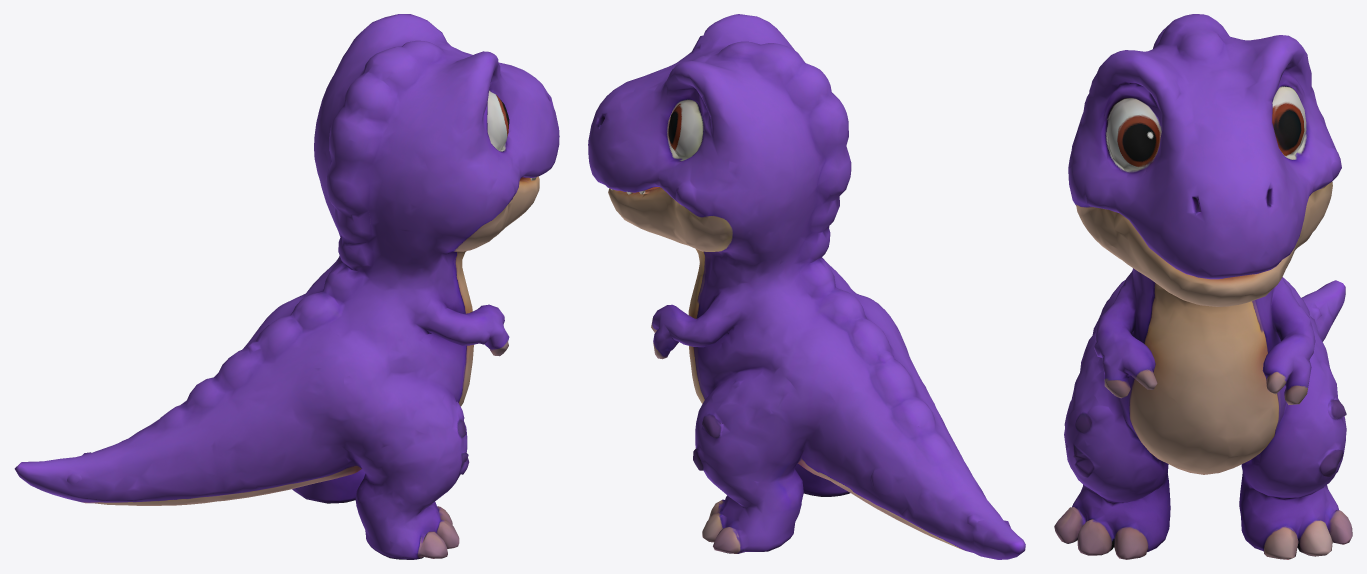
Rendered from trex-source.glb.
3 views of the same model, side by side, from view 1: azimuth 30°, elevation 25°; view 2: azimuth 150°, elevation 25°; view 3: azimuth 270°, elevation 25° (orthographic). The views are drawn at different scales.
Parts seen in each view (by area): view 1: tripo_node_e5142d6c-4289-4158-8266-aba0469793a6; view 2: tripo_node_e5142d6c-4289-4158-8266-aba0469793a6; view 3: tripo_node_e5142d6c-4289-4158-8266-aba0469793a6.
Boxes of the visible parts, x1,y1,x2,y2 form: tripo_node_e5142d6c-4289-4158-8266-aba0469793a6: [14, 14, 559, 559]; tripo_node_e5142d6c-4289-4158-8266-aba0469793a6: [588, 14, 1025, 559]; tripo_node_e5142d6c-4289-4158-8266-aba0469793a6: [1054, 14, 1352, 559].
Bounding box in the file's own units: 1 × 0.9148 × 0.4658.
Materials: 1 (1 with a texture image).
